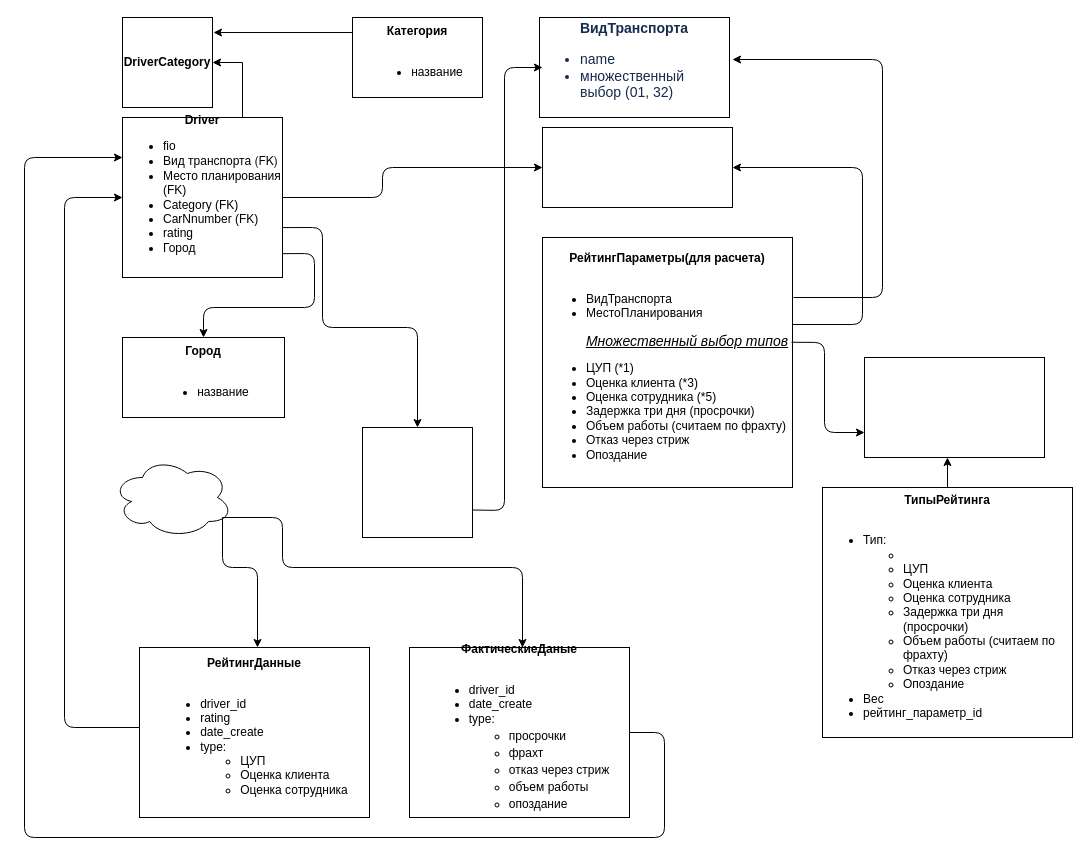
This 1090x863 diagram has some shape labels left out. Each missing label, with the box of its shape:
Car number region: (362, 426, 472, 538)
SAP: (112, 456, 232, 538)
МестоПланирования Название (прим. 1020): (542, 126, 732, 208)
ТипыРейтингаПараметров рейтинг_параметры_id тип_рейтинга_id: (864, 356, 1044, 458)
